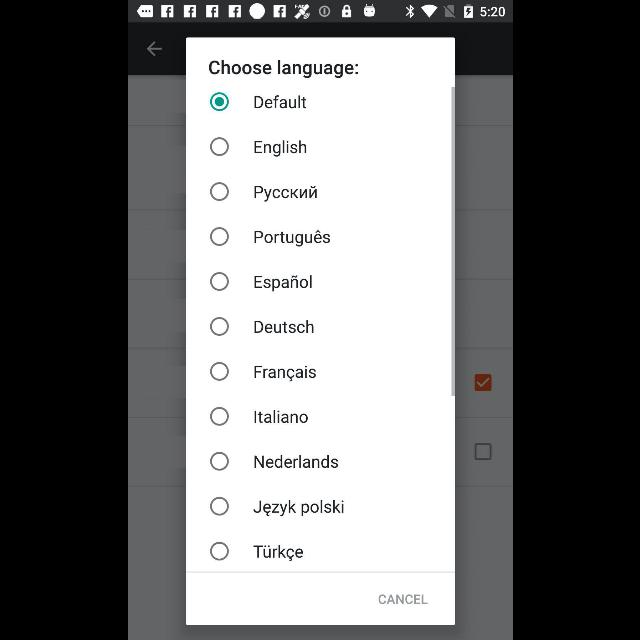checkbox: (208, 92, 228, 111), (210, 182, 228, 202), (210, 406, 228, 426), (210, 496, 228, 516), (210, 138, 228, 156), (210, 228, 228, 246), (210, 272, 228, 290), (210, 317, 228, 335), (210, 362, 228, 380), (210, 452, 228, 470), (210, 542, 228, 560)
icon: (146, 42, 162, 56)
panel: (185, 38, 455, 624)
text: (208, 61, 358, 79), (252, 499, 344, 516), (254, 230, 330, 246), (253, 456, 337, 468), (254, 186, 316, 202), (253, 365, 315, 381), (254, 140, 306, 158), (253, 275, 311, 291), (253, 544, 303, 562), (254, 321, 312, 334), (254, 95, 306, 108), (254, 411, 306, 424), (378, 594, 428, 604)
uppertaskbar: (128, 1, 512, 23)
